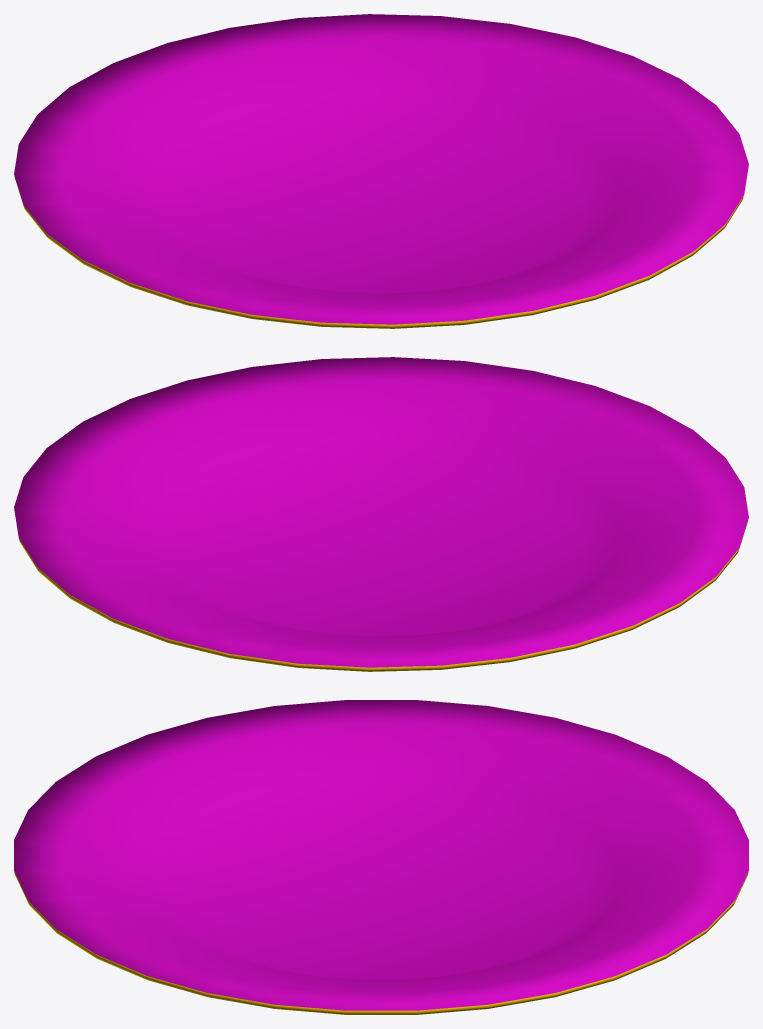
File: plate_a002.fbx
The picture shows the model from 3 angles, top to bottom: view 1: azimuth 30°, elevation 25°; view 2: azimuth 150°, elevation 25°; view 3: azimuth 270°, elevation 25°; orthographic projection.
Visible parts, largest first — view 1: plate_a_mesh; view 2: plate_a_mesh; view 3: plate_a_mesh.
Part boxes in pixels (x1,y1,x2,y2): plate_a_mesh: (14, 14, 748, 328); plate_a_mesh: (14, 357, 748, 671); plate_a_mesh: (14, 700, 748, 1014).
Bounding box in the file's own units: 21.17 × 1.41 × 21.17.
